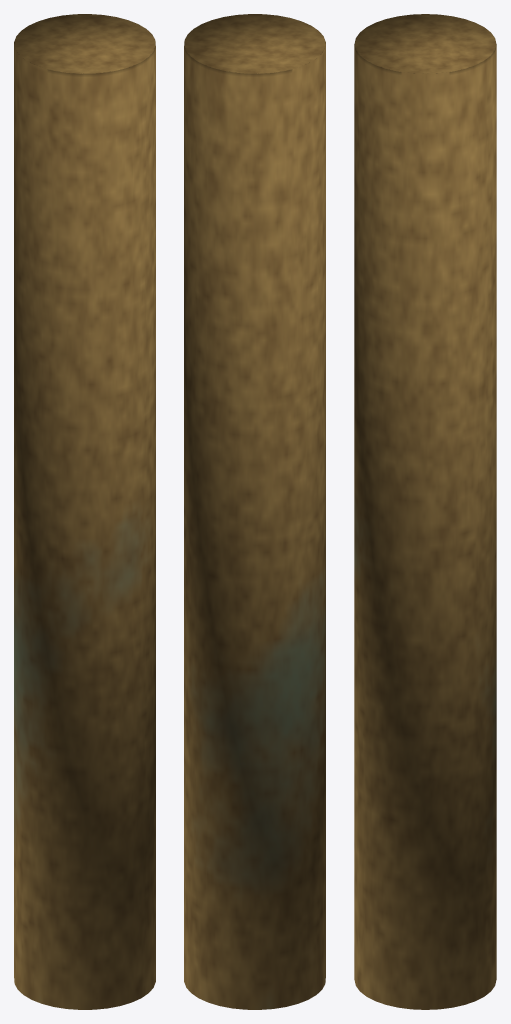
The model's file is Clapper stem.glb.
3 renders of one model, left to right at view 1: azimuth 30°, elevation 25°; view 2: azimuth 150°, elevation 25°; view 3: azimuth 270°, elevation 25°, orthographic.
Visible parts, largest first — view 1: Clapper stem; view 2: Clapper stem; view 3: Clapper stem.
Boxes of the visible parts, x1,y1,x2,y2 form: Clapper stem: [14, 14, 155, 1009]; Clapper stem: [184, 14, 325, 1009]; Clapper stem: [354, 14, 496, 1009].
Size of the model in its own units: 0.11 by 0.8 by 0.11.
1 material, 1 textured.
